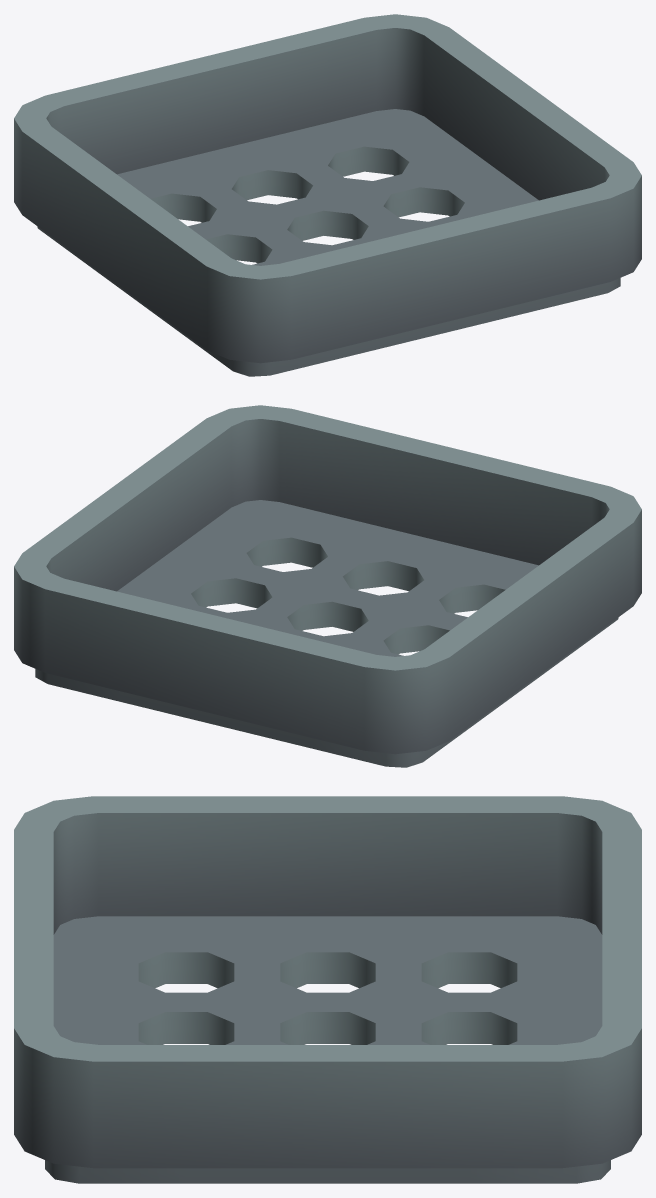
Rendered from robot_stack.fbx.
3 views of the same model, one above another, from view 1: azimuth 30°, elevation 25°; view 2: azimuth 150°, elevation 25°; view 3: azimuth 270°, elevation 25° (orthographic). The views are drawn at different scales.
Visible parts, largest first — view 1: Cube; view 2: Cube; view 3: Cube.
Part boxes in pixels (box(x1,y1,x2,y2)): Cube: box(14, 14, 641, 376); Cube: box(14, 405, 641, 767); Cube: box(14, 796, 641, 1183).
Bounding box in the file's own units: 0.2055 × 0.2055 × 0.0488.
